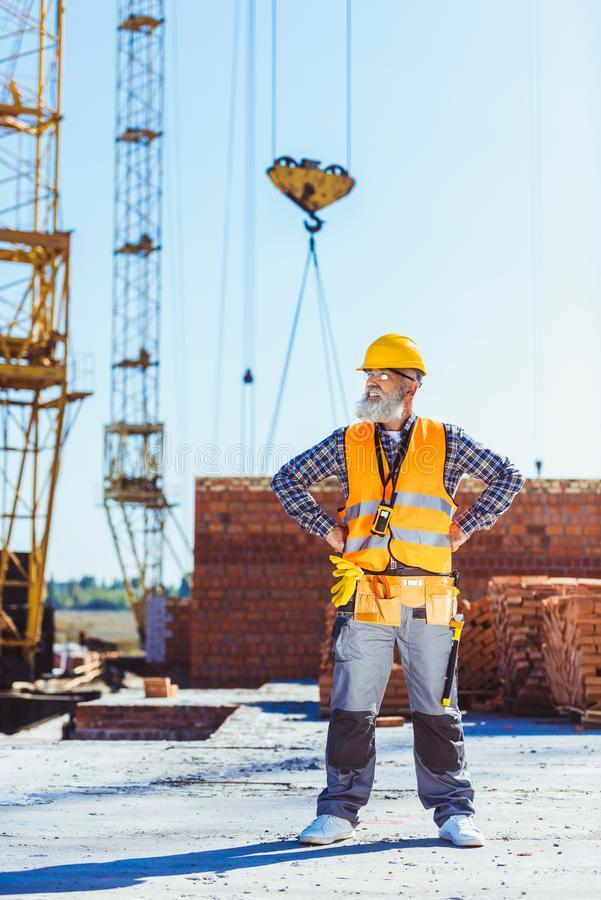helmet: (357, 334, 430, 380)
